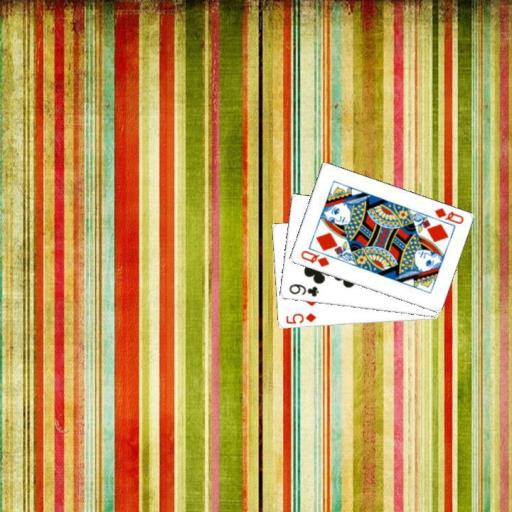5D: (283, 310, 317, 326)
9C: (286, 281, 320, 299)
QD: (297, 247, 331, 269), (431, 205, 465, 225)
